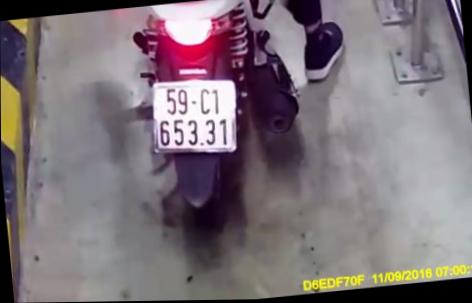LP: (145, 73, 241, 162)
